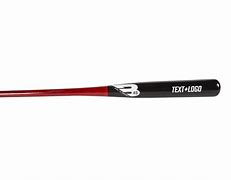bat: (1, 77, 222, 99)
